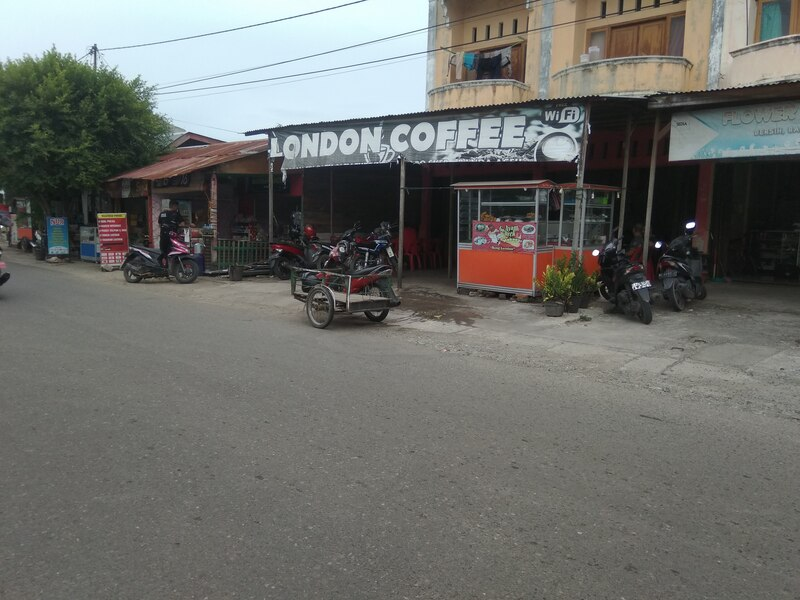becak barang: (289, 240, 411, 334)
